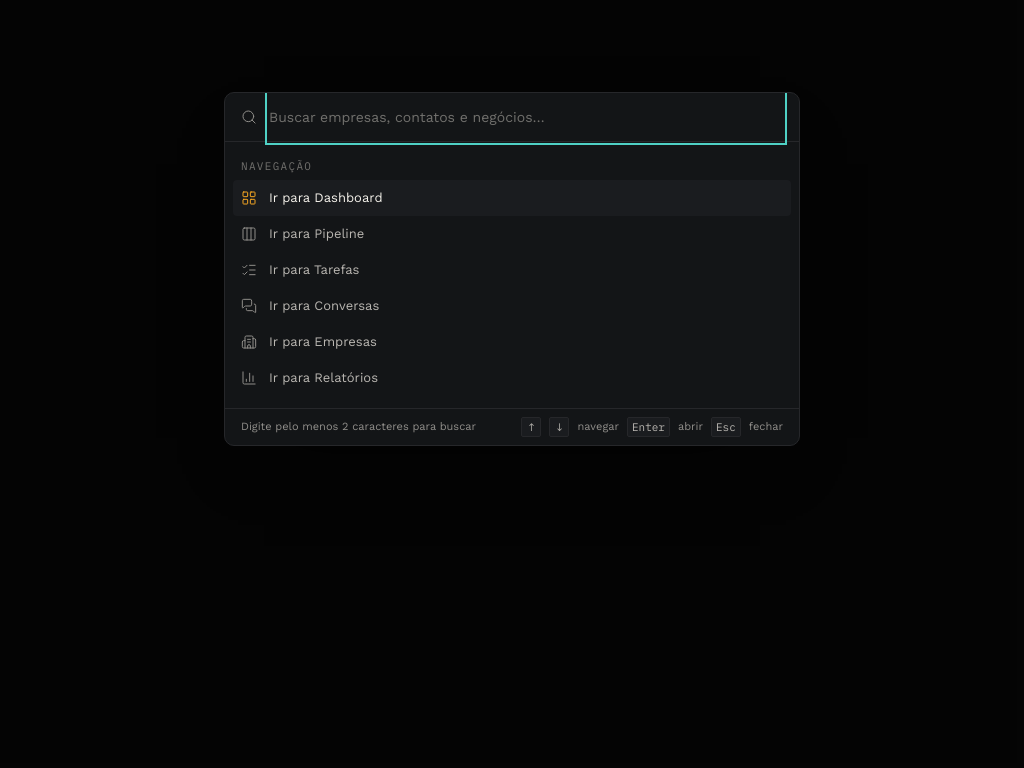
Test case: grupo Conversas › sem resultado, o grupo Conversas não aparece
In the dropdown: (526, 117) top-left (269, 93), bottom-right (783, 141), type "zzz"
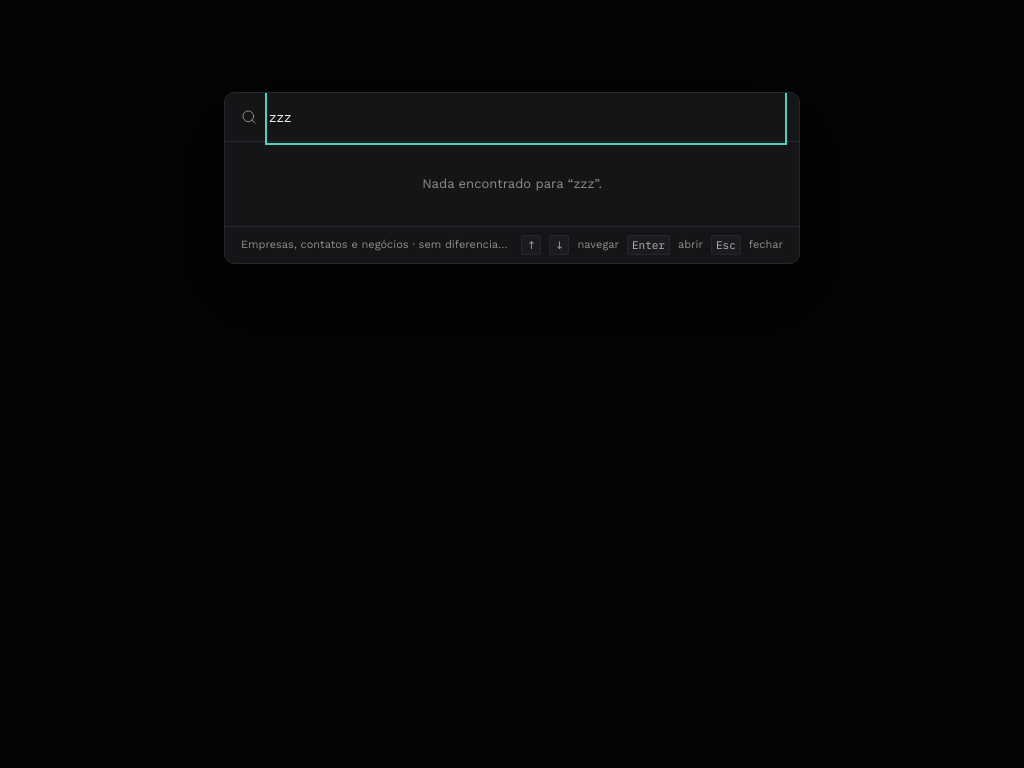
Check: the option "Conversas" is gone
